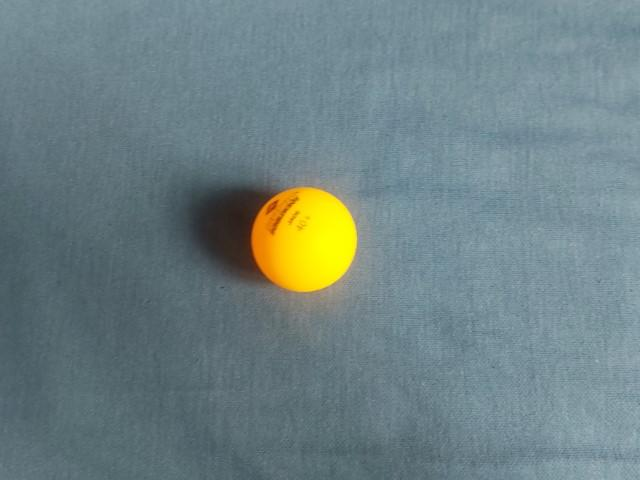oball: (274, 185, 396, 302)
